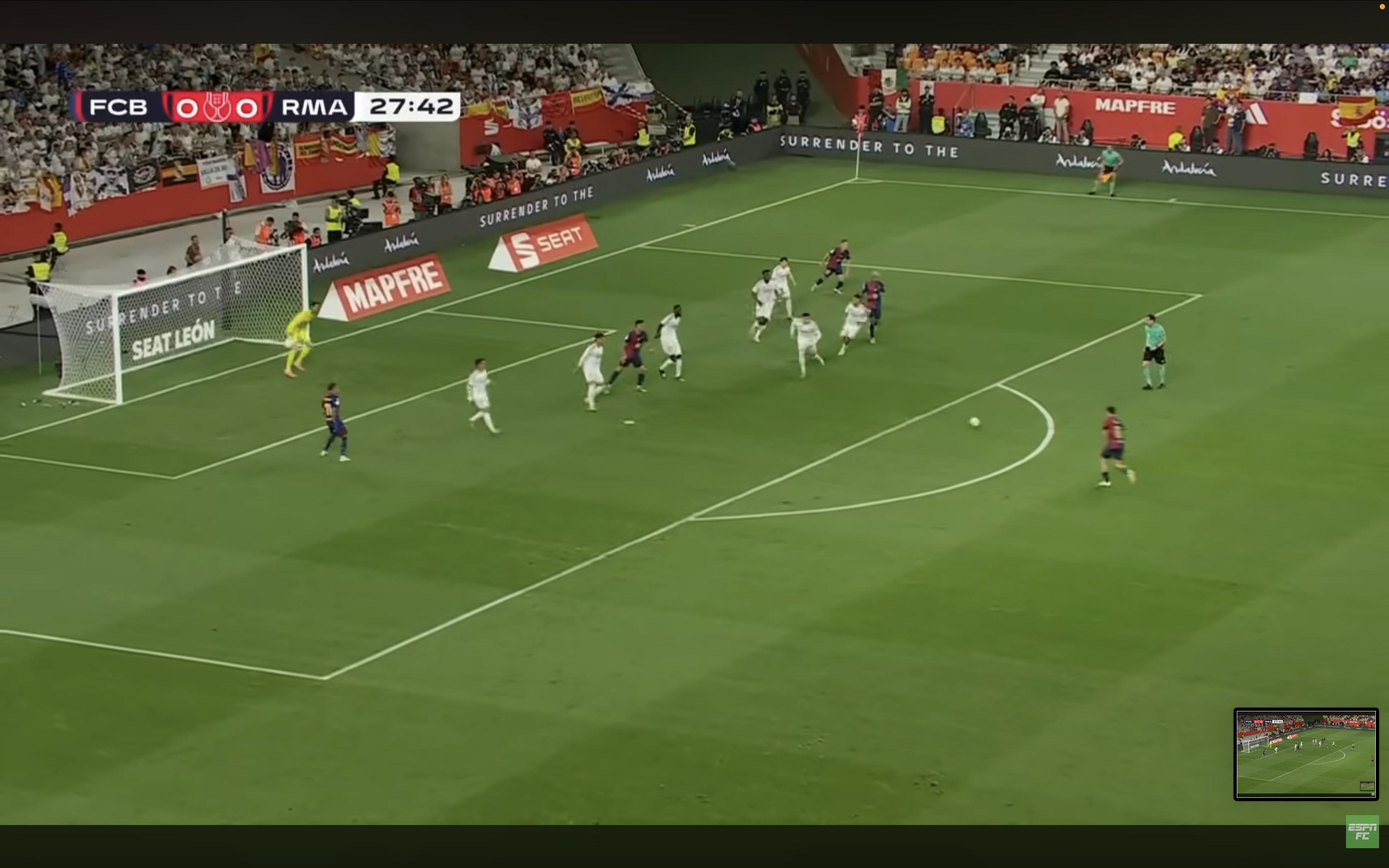ball: (969, 417, 981, 428)
goalkeeper: (284, 303, 320, 378)
player: (1098, 407, 1136, 487), (605, 320, 647, 392), (467, 358, 499, 434), (576, 332, 606, 411), (320, 384, 349, 462), (811, 239, 851, 294), (750, 269, 780, 342), (656, 305, 683, 381), (794, 313, 824, 378), (838, 295, 870, 355), (862, 272, 885, 343), (772, 257, 795, 323)
referee: (1089, 145, 1123, 197), (1143, 314, 1166, 390)
